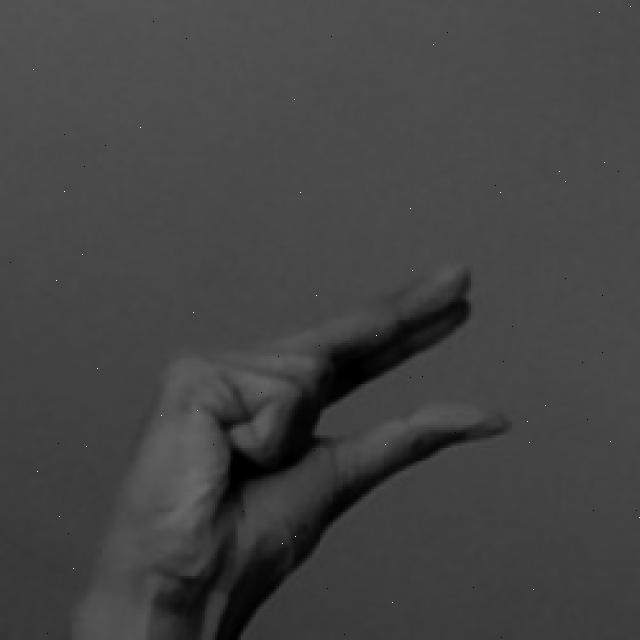G: (70, 258, 517, 640)
